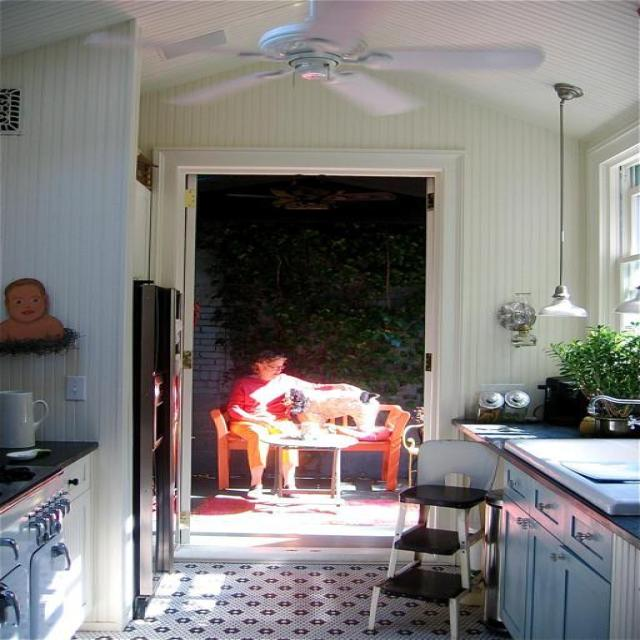door: (131, 280, 181, 604)
lamps: (536, 82, 588, 318)
plants: (544, 320, 638, 436)
pots: (0, 389, 49, 448)
rugs: (71, 560, 511, 639)
sofa: (209, 382, 410, 493)
table: (258, 431, 358, 506)
windows: (152, 147, 462, 562)
